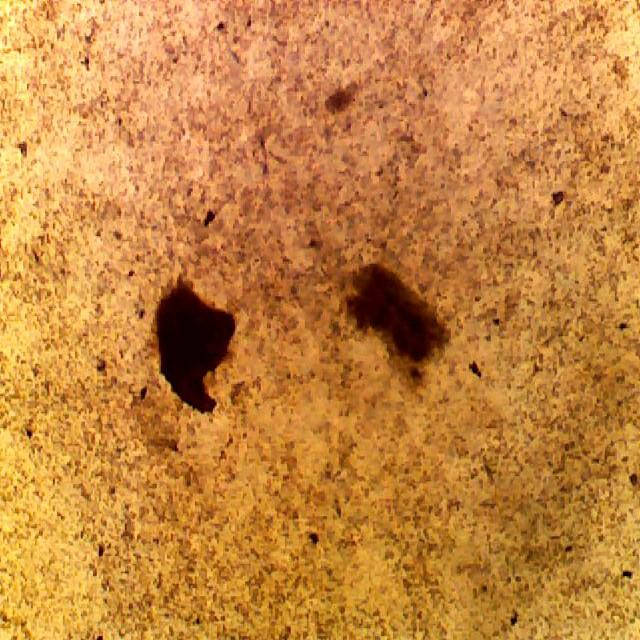fragment: (333, 258, 453, 390), (147, 271, 239, 419)
